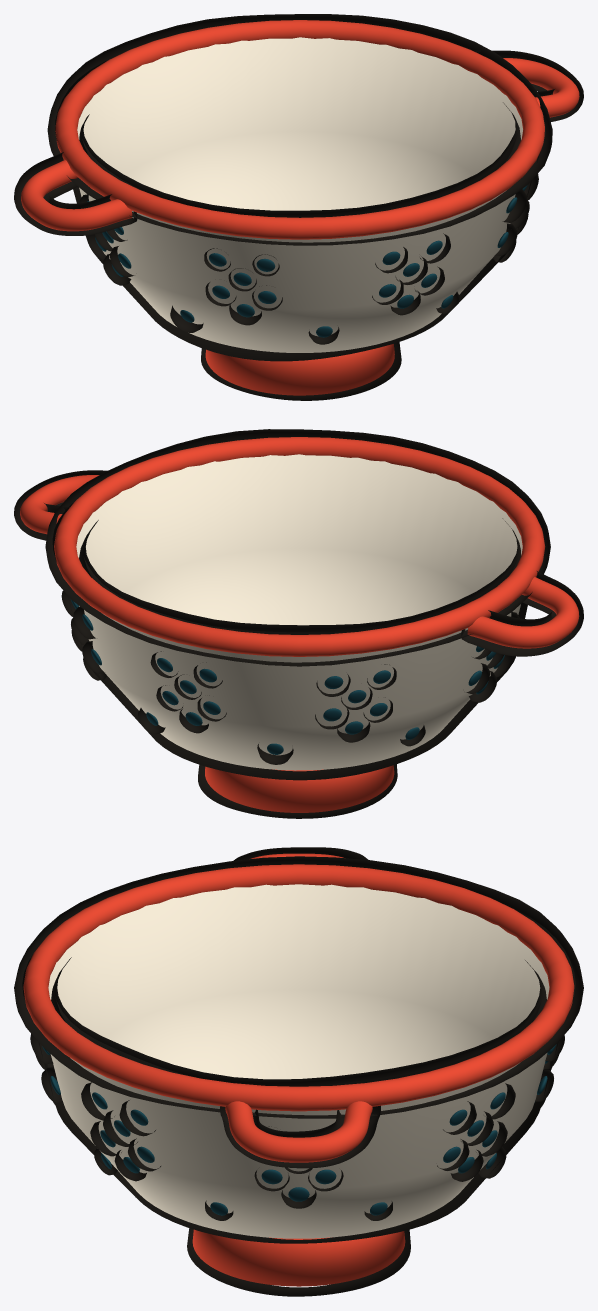
The model's file is colander.glb.
3 renders of one model, top to bottom at view 1: azimuth 30°, elevation 25°; view 2: azimuth 150°, elevation 25°; view 3: azimuth 270°, elevation 25°, orthographic. The views are drawn at different scales.
Parts seen in each view (by area): view 1: Colander, Colander_outline; view 2: Colander, Colander_outline; view 3: Colander, Colander_outline.
Boxes of the visible parts, x1=… form: Colander: x1=21, y1=20, x2=579, y2=395; Colander_outline: x1=14, y1=14, x2=583, y2=400; Colander: x1=20, y1=437, x2=579, y2=812; Colander_outline: x1=14, y1=429, x2=583, y2=818; Colander: x1=23, y1=853, x2=574, y2=1286; Colander_outline: x1=14, y1=847, x2=583, y2=1296.
Size of the model in its own units: 2.53 by 1.12 by 2.04.
